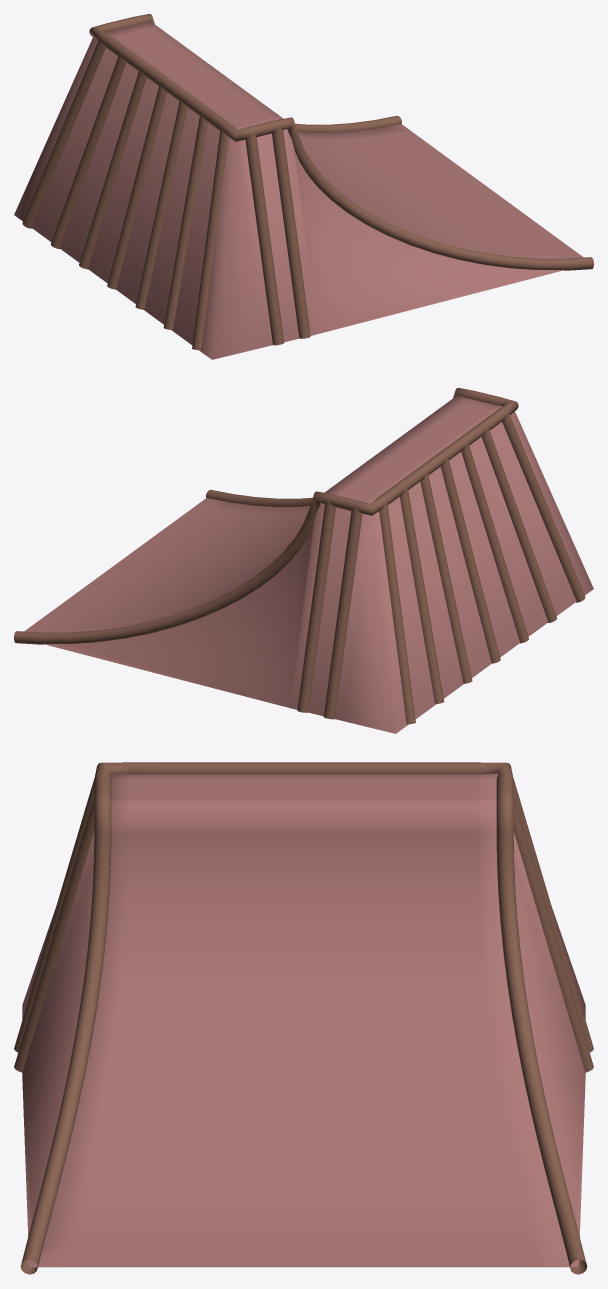
The model's file is DirtJump_Reinforced_2_kus.fbx.
The picture shows the model from 3 angles, top to bottom: view 1: azimuth 30°, elevation 25°; view 2: azimuth 150°, elevation 25°; view 3: azimuth 270°, elevation 25°; orthographic projection. The views are drawn at different scales.
Visible parts, largest first — view 1: DirtJump_Reinforced_2; view 2: DirtJump_Reinforced_2; view 3: DirtJump_Reinforced_2.
Part boxes in pixels (bbox=[...]): DirtJump_Reinforced_2: bbox=[14, 14, 593, 359]; DirtJump_Reinforced_2: bbox=[14, 388, 593, 733]; DirtJump_Reinforced_2: bbox=[14, 762, 593, 1274].
Bounding box in the file's own units: 1467 × 721 × 1336.
